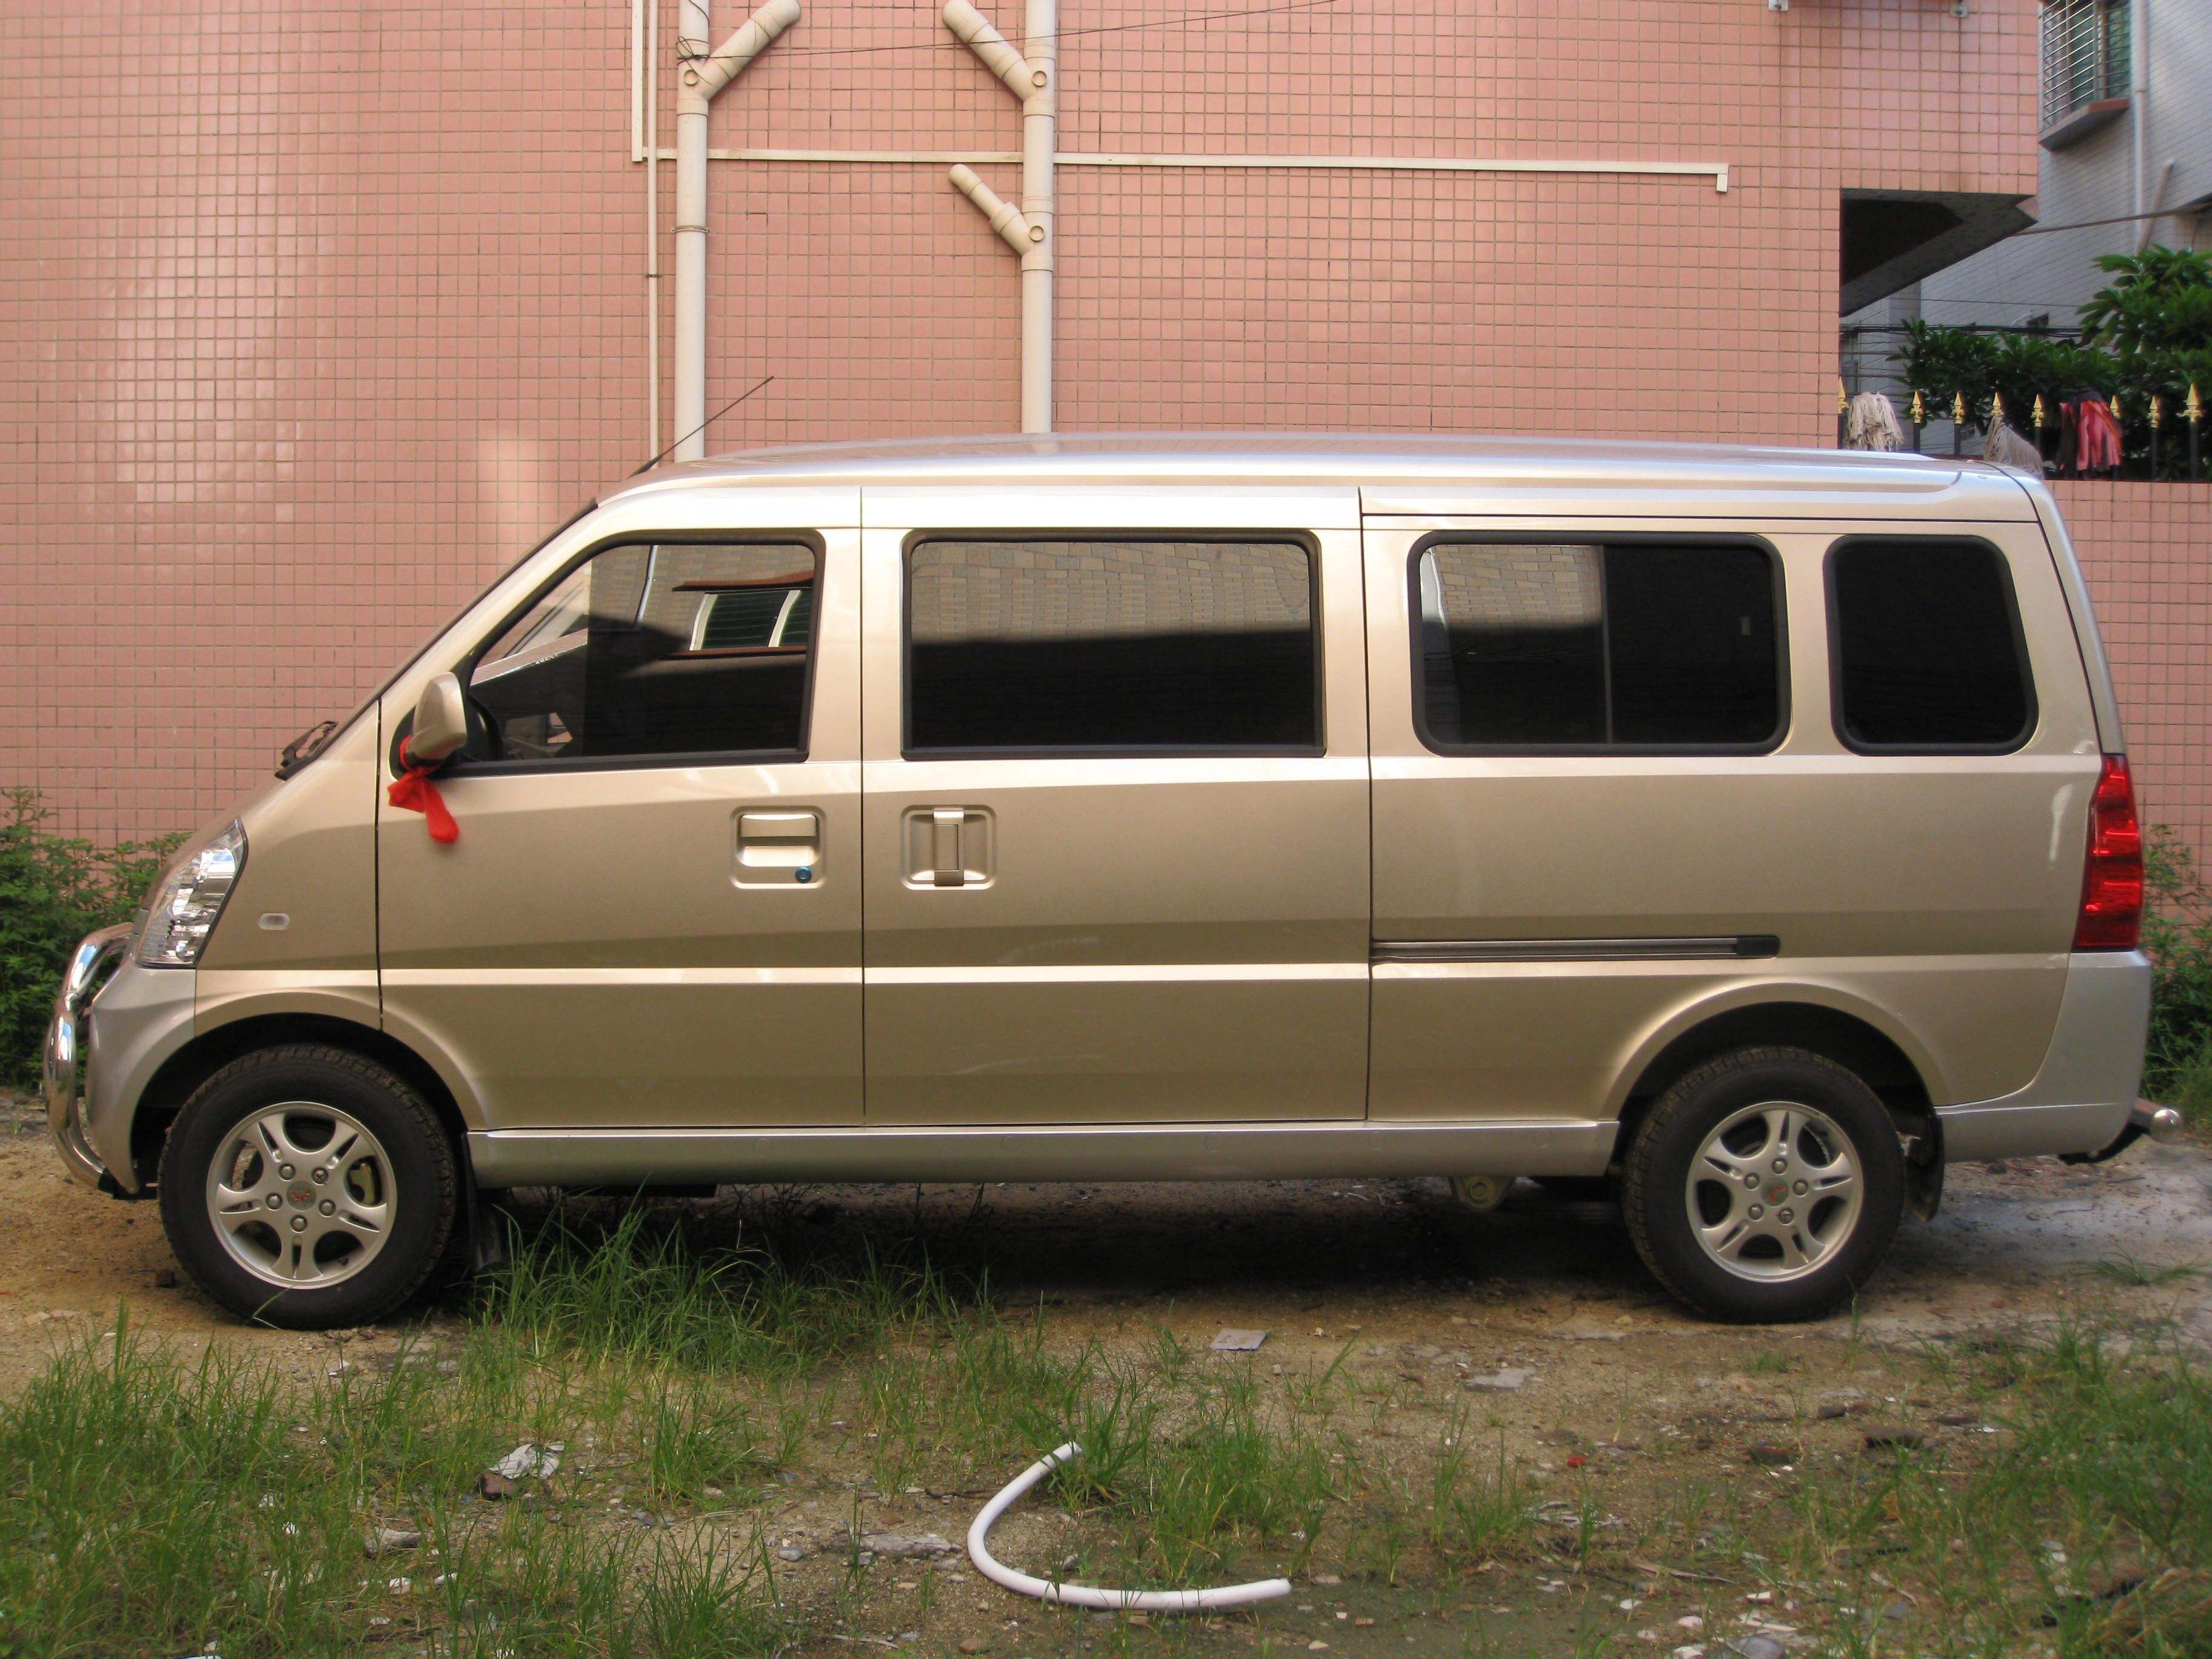minibus: (51, 392, 2158, 1326)
